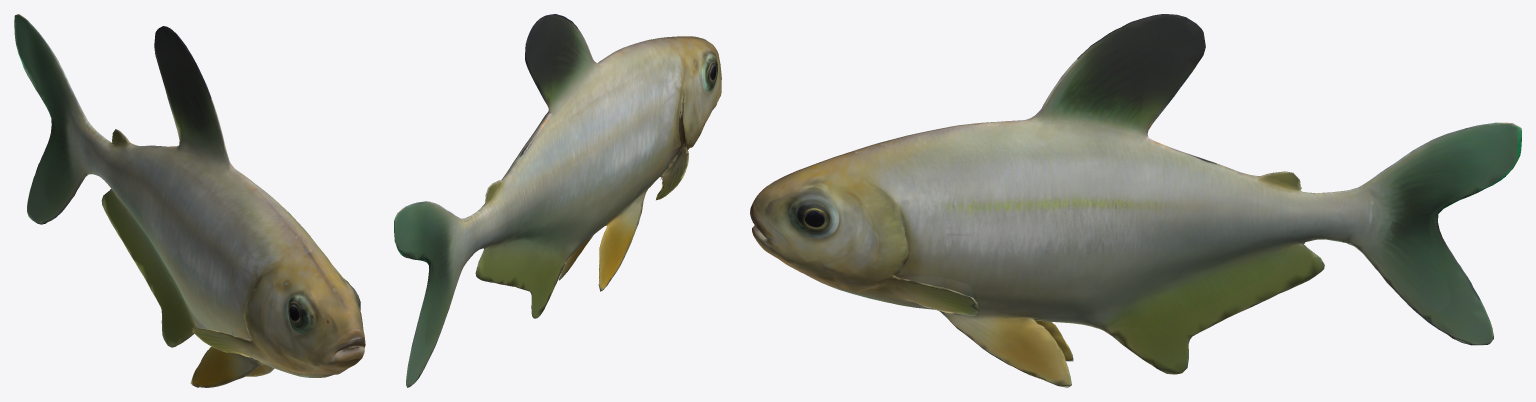
The model's file is Black_phantom_0604065538_texture.glb.
The picture shows the model from 3 angles, left to right: view 1: azimuth 30°, elevation 25°; view 2: azimuth 150°, elevation 25°; view 3: azimuth 270°, elevation 25°; orthographic projection. The views are drawn at different scales.
Size of the model in its own units: 0.4421 by 1.03 by 2.
1 material, 1 textured.
